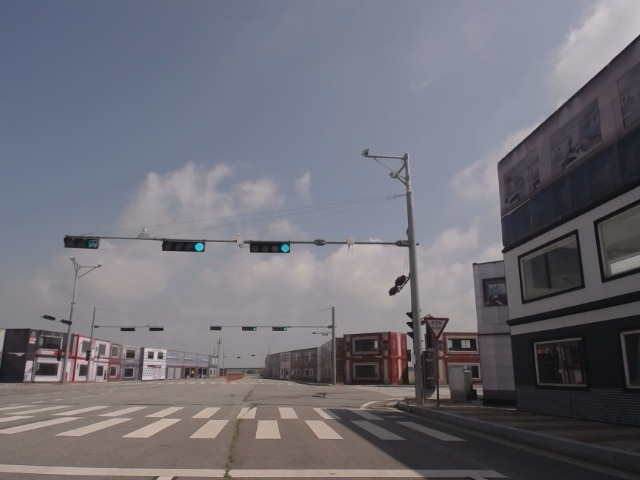straight_green_4: (162, 239, 206, 252), (249, 241, 291, 254)
